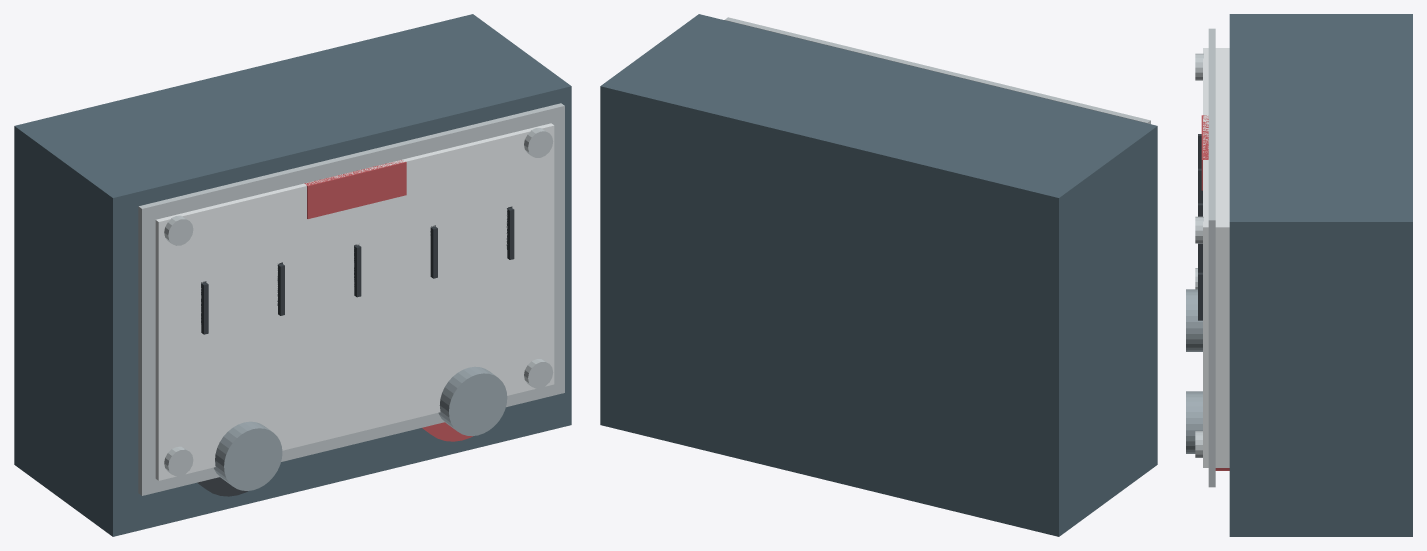
Rendered from ammeter_lod1.glb.
3 renders of one model, left to right at view 1: azimuth 30°, elevation 25°; view 2: azimuth 150°, elevation 25°; view 3: azimuth 270°, elevation 25°, orthographic. The views are drawn at different scales.
Parts seen in each view (by area): view 1: AMM_BODY_MAT_METAL_DARK, AMM_FACE_INSET_MAT_WHITE, AMM_FACE_BEZEL_MAT_STAINLESS, AMM_LABEL_MAT_RED, AMM_PORT_COM_MAT_METAL_BRUSHED, AMM_PORT_INPUT_MAT_METAL_BRUSHED, AMM_FACE_SCREW_2_MAT_STAINLESS, AMM_FACE_SCREW_0_MAT_STAINLESS, AMM_FACE_SCREW_3_MAT_STAINLESS, AMM_FACE_SCREW_1_MAT_STAINLESS; view 2: AMM_BODY_MAT_METAL_DARK, AMM_FACE_BEZEL_MAT_STAINLESS; view 3: AMM_BODY_MAT_METAL_DARK, AMM_FACE_MAT_WHITE, AMM_FACE_BEZEL_MAT_STAINLESS, AMM_FACE_INSET_MAT_WHITE, AMM_PORT_COM_MAT_METAL_BRUSHED, AMM_PORT_INPUT_MAT_METAL_BRUSHED, AMM_LABEL_MAT_RED.
Boxes of the visible parts, x1,y1,x2,y2 form: AMM_BODY_MAT_METAL_DARK: (14,14,571,536); AMM_FACE_INSET_MAT_WHITE: (155,123,554,480); AMM_FACE_BEZEL_MAT_STAINLESS: (138,103,564,495); AMM_LABEL_MAT_RED: (304,160,406,218); AMM_PORT_COM_MAT_METAL_BRUSHED: (214,421,282,490); AMM_PORT_INPUT_MAT_METAL_BRUSHED: (438,366,507,436); AMM_FACE_SCREW_2_MAT_STAINLESS: (164,215,193,245); AMM_FACE_SCREW_0_MAT_STAINLESS: (164,446,193,476); AMM_FACE_SCREW_3_MAT_STAINLESS: (524,128,553,157); AMM_FACE_SCREW_1_MAT_STAINLESS: (524,359,553,388); AMM_BODY_MAT_METAL_DARK: (600,14,1157,536); AMM_FACE_BEZEL_MAT_STAINLESS: (724,17,1150,124); AMM_BODY_MAT_METAL_DARK: (1229,14,1412,536); AMM_FACE_MAT_WHITE: (1215,48,1229,467); AMM_FACE_BEZEL_MAT_STAINLESS: (1208,28,1215,487); AMM_FACE_INSET_MAT_WHITE: (1203,48,1208,467); AMM_PORT_COM_MAT_METAL_BRUSHED: (1186,289,1202,351); AMM_PORT_INPUT_MAT_METAL_BRUSHED: (1186,391,1202,453); AMM_LABEL_MAT_RED: (1201,115,1208,190).
Bounding box in the file's own units: 1.02 × 0.74 × 0.47.
